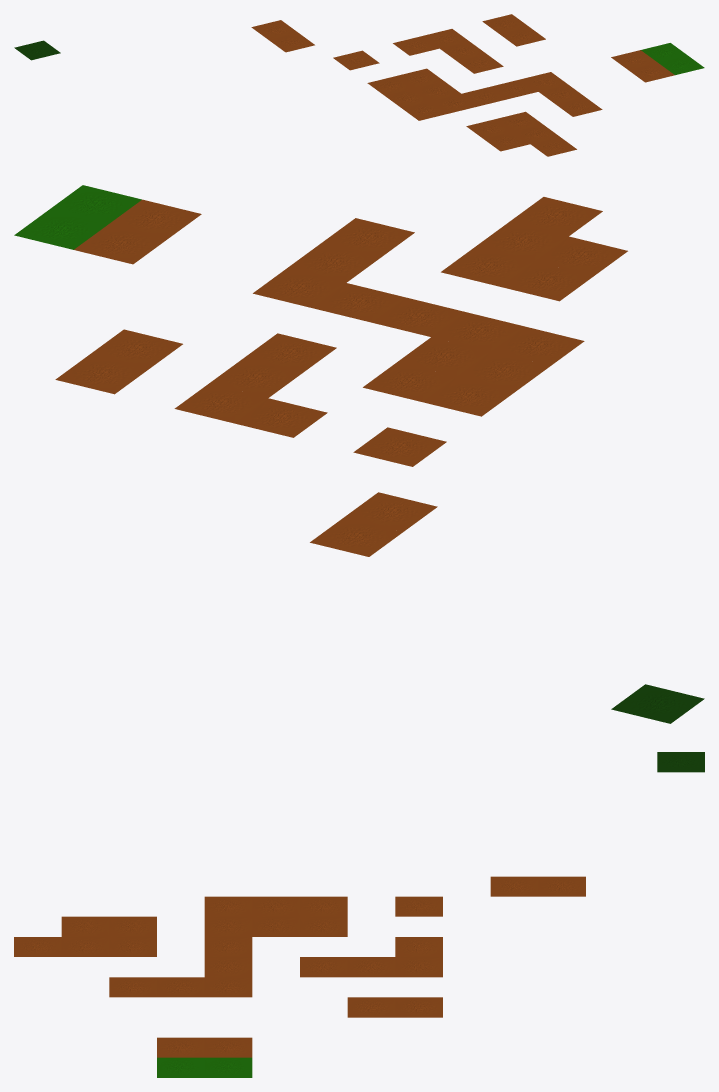
File: Terrain_Part_Plane_4.glb
3 renders of one model, top to bottom at view 1: azimuth 30°, elevation 25°; view 2: azimuth 150°, elevation 25°; view 3: azimuth 270°, elevation 25°, orthographic. The views are drawn at different scales.
Parts seen in each view (by area): view 1: Terrain_Part_Plane_4.023; view 2: Terrain_Part_Plane_4.023; view 3: Terrain_Part_Plane_4.023.
Part boxes in pixels (bbox=[...]): Terrain_Part_Plane_4.023: bbox=[14, 14, 704, 156]; Terrain_Part_Plane_4.023: bbox=[14, 185, 704, 723]; Terrain_Part_Plane_4.023: bbox=[14, 752, 704, 1077].
Bounding box in the file's own units: 330 × 3.19 × 290.
